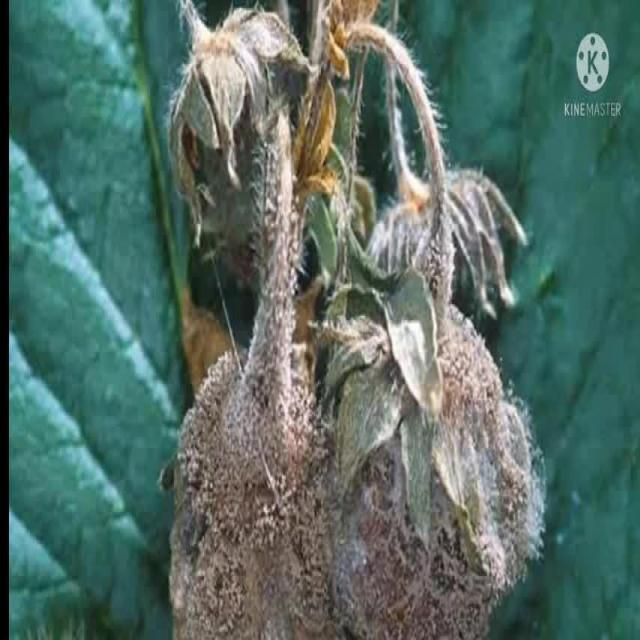Moho gris: (322, 288, 540, 640), (167, 344, 353, 640), (162, 5, 306, 292), (368, 170, 528, 363)
